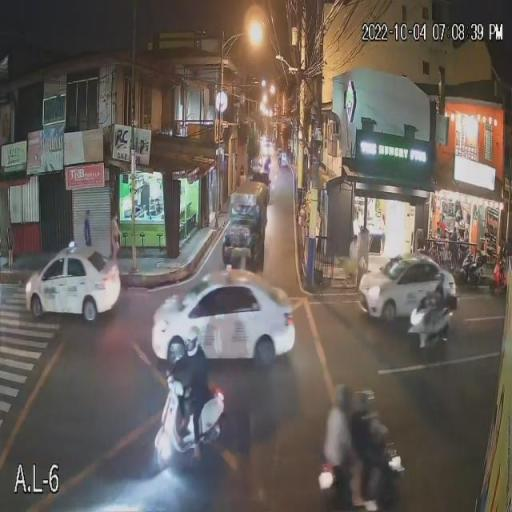helmet: (183, 324, 204, 357), (334, 381, 354, 412), (356, 387, 376, 416), (433, 272, 447, 286)
motorcycle: (309, 442, 409, 510), (150, 402, 226, 464), (407, 304, 456, 350)
rider: (324, 408, 369, 510), (353, 413, 389, 493), (184, 358, 210, 464), (428, 287, 447, 337)
